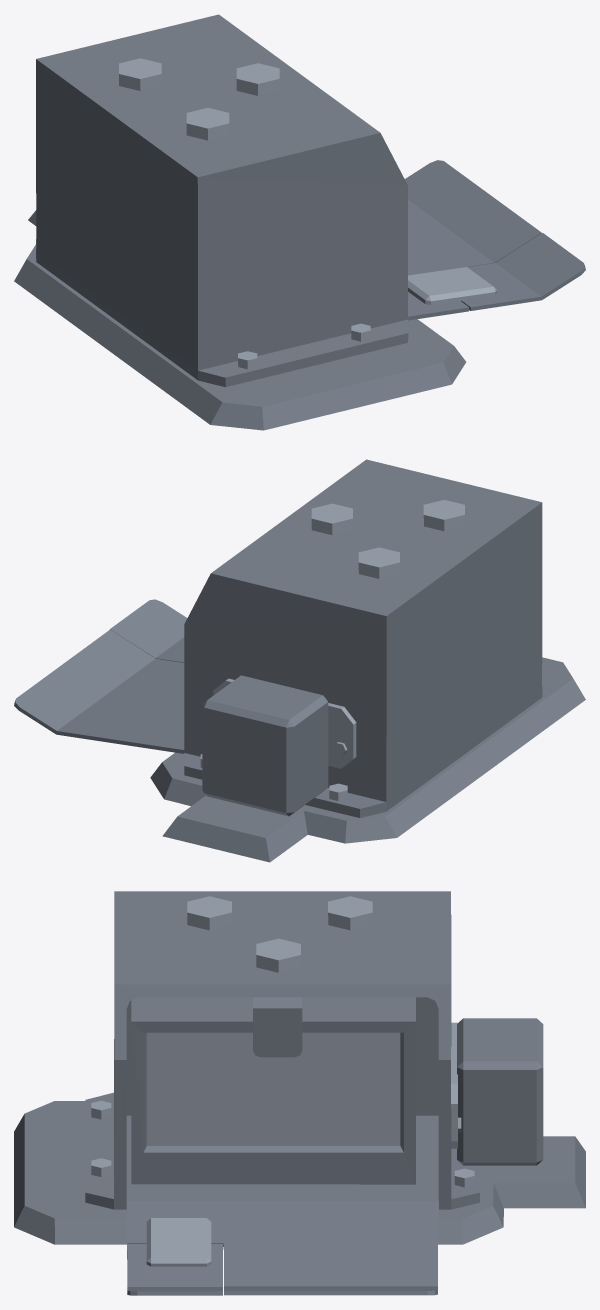
The model's file is box_type87-arv.fbx.
3 renders of one model, top to bottom at view 1: azimuth 30°, elevation 25°; view 2: azimuth 150°, elevation 25°; view 3: azimuth 270°, elevation 25°, orthographic. The views are drawn at different scales.
Parts seen in each view (by area): view 1: box.type87-arv; view 2: box.type87-arv; view 3: box.type87-arv.
Part boxes in pixels (left/top/right/bottom): box.type87-arv: left=14, top=14, right=585, bottom=430; box.type87-arv: left=14, top=459, right=585, bottom=862; box.type87-arv: left=14, top=891, right=585, bottom=1295.
Bounding box in the file's own units: 1.6 × 0.8665 × 1.84.
